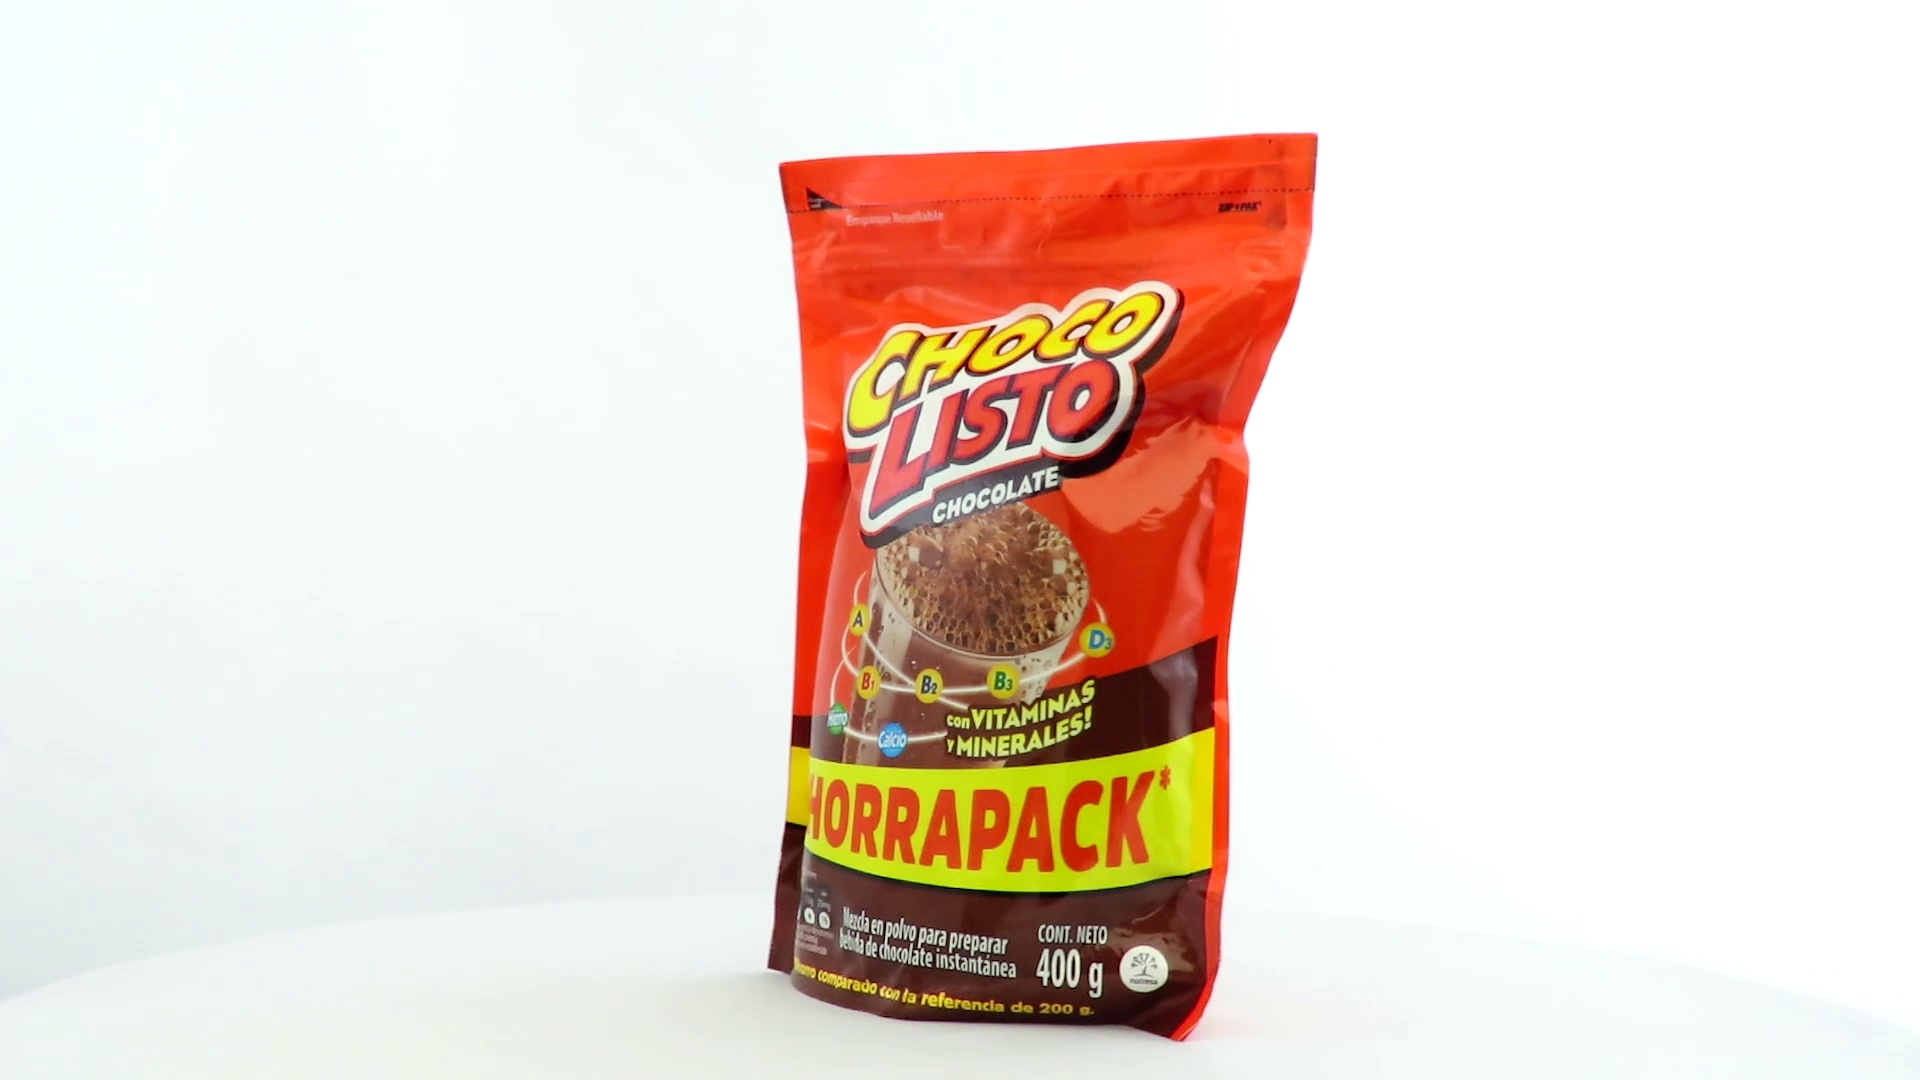COL0170103DYP40000: (762, 127, 1324, 1048)
